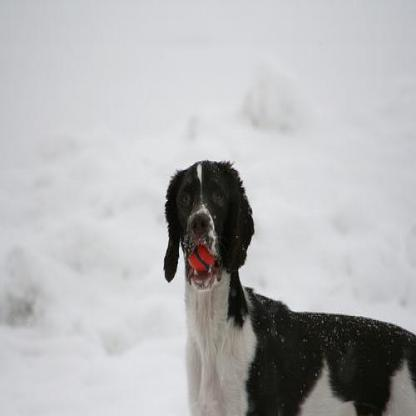English_springer: (163, 156, 414, 411)
